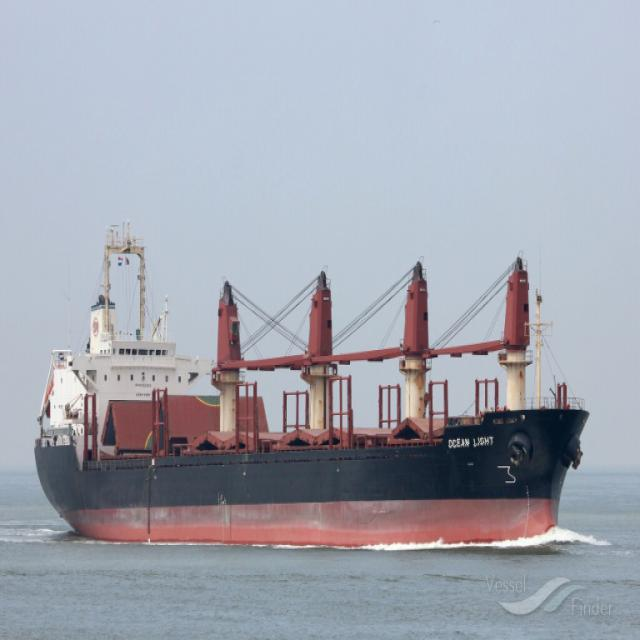OCR: (447, 431, 495, 461)
